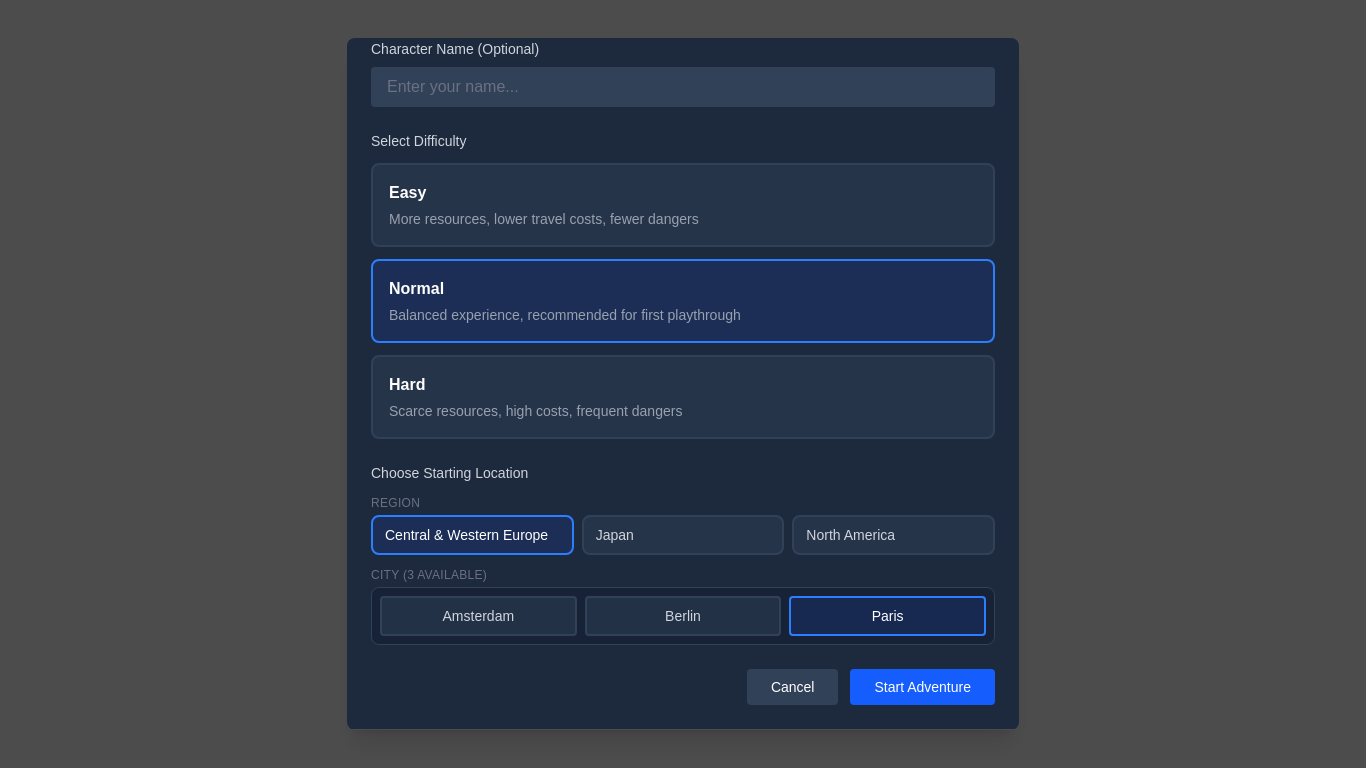
NewGameModal › should disable buttons while creating game
(page scrolled)
Expected: the button "Paris" is shown, [789,596,986,636]
Click the button "Start Adventure" at (923, 687), box [850,669,995,705]
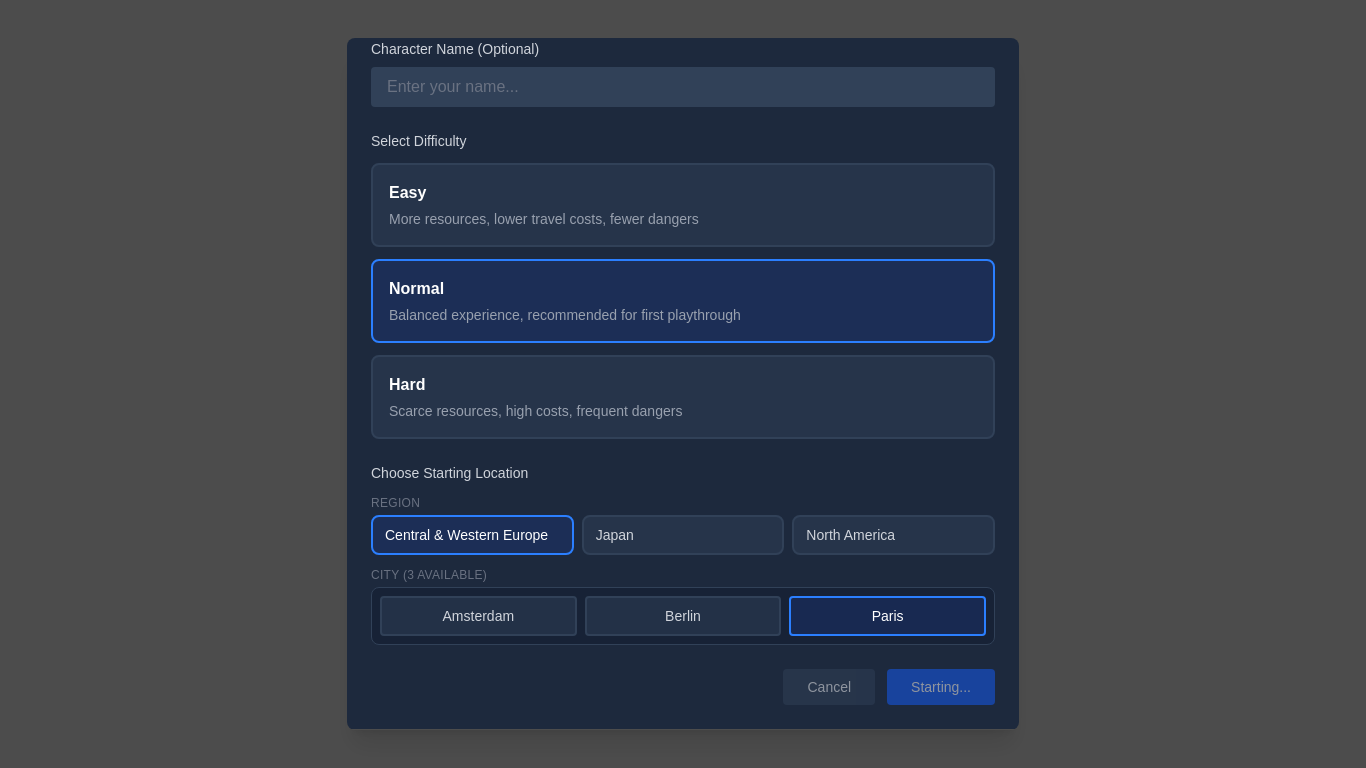
Now the button "Starting..." is disabled, box [887,669,995,705]
Now the button "Cancel" is disabled, box [784,669,875,705]
